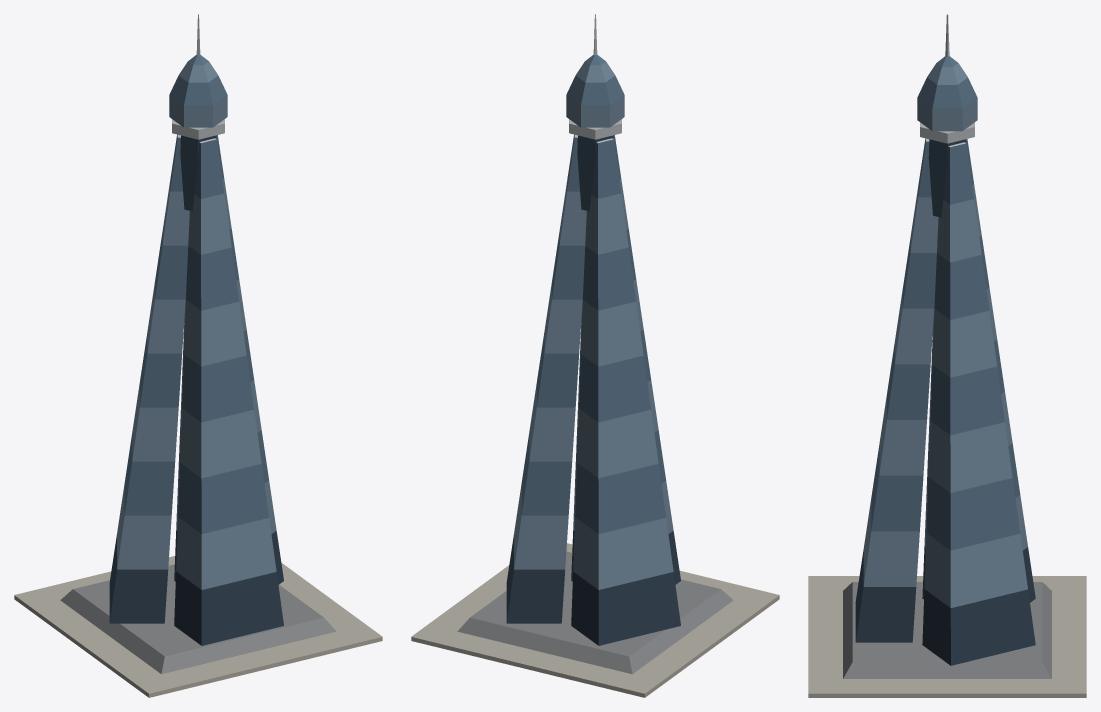
Rendered from ryugyong.glb.
3 renders of one model, left to right at view 1: azimuth 30°, elevation 25°; view 2: azimuth 150°, elevation 25°; view 3: azimuth 270°, elevation 25°, orthographic. The views are drawn at different scales.
Visible parts, largest first — view 1: ryugyong; view 2: ryugyong; view 3: ryugyong.
Part boxes in pixels (left/top/right/bottom): ryugyong: left=14, top=14, right=382, bottom=697; ryugyong: left=411, top=14, right=779, bottom=697; ryugyong: left=808, top=14, right=1086, bottom=697.
Bounding box in the file's own units: 1.76 × 4.36 × 1.76.
